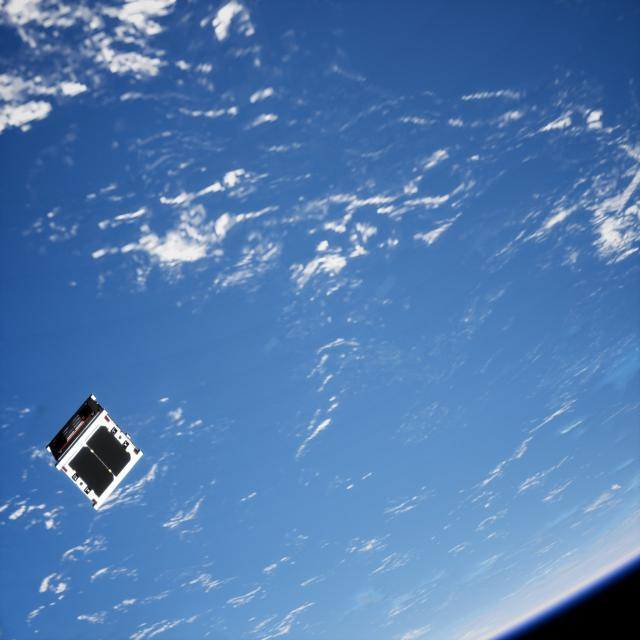medium_debris: (40, 392, 153, 511)
